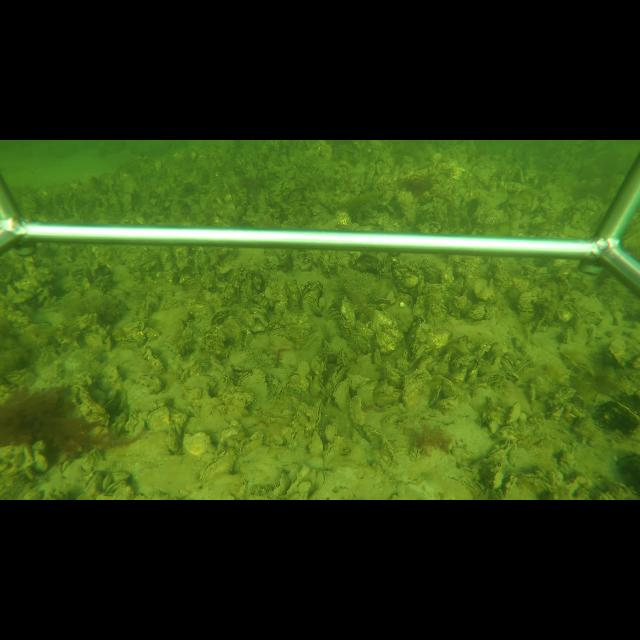Oyster-Closed: (200, 445, 237, 488), (402, 369, 432, 412), (408, 314, 433, 357), (236, 366, 270, 396), (218, 423, 248, 447), (147, 405, 173, 432), (277, 371, 301, 400), (201, 327, 226, 354), (332, 380, 351, 413), (357, 379, 378, 408), (380, 435, 399, 467), (323, 436, 342, 467), (79, 469, 100, 497), (340, 298, 356, 330), (308, 398, 323, 432), (269, 468, 287, 496), (285, 426, 306, 450), (349, 332, 370, 353), (489, 469, 503, 491), (501, 354, 516, 372), (293, 409, 307, 428), (417, 356, 435, 369), (394, 293, 413, 305)
Oyster-Open: (480, 440, 512, 461), (331, 364, 349, 386)
